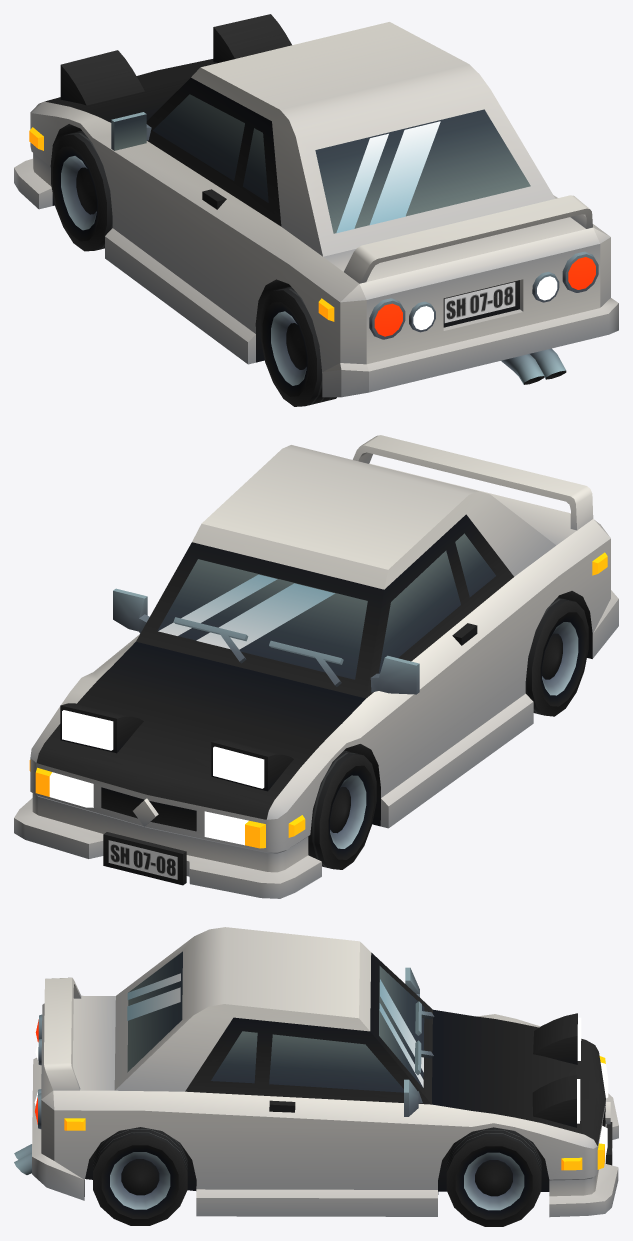
The picture shows the model from 3 angles, top to bottom: view 1: azimuth 30°, elevation 25°; view 2: azimuth 150°, elevation 25°; view 3: azimuth 270°, elevation 25°; orthographic projection. The views are drawn at different scales.
Parts seen in each view (by area): view 1: vehicle_white; view 2: vehicle_white; view 3: vehicle_white.
Boxes of the visible parts, x1,y1,x2,y2 form: vehicle_white: (14,14,618,406); vehicle_white: (14,435,618,898); vehicle_white: (14,927,618,1226).
Size of the model in its own units: 2.37 by 1.81 by 4.84.
Materials: 2 (2 with a texture image).
